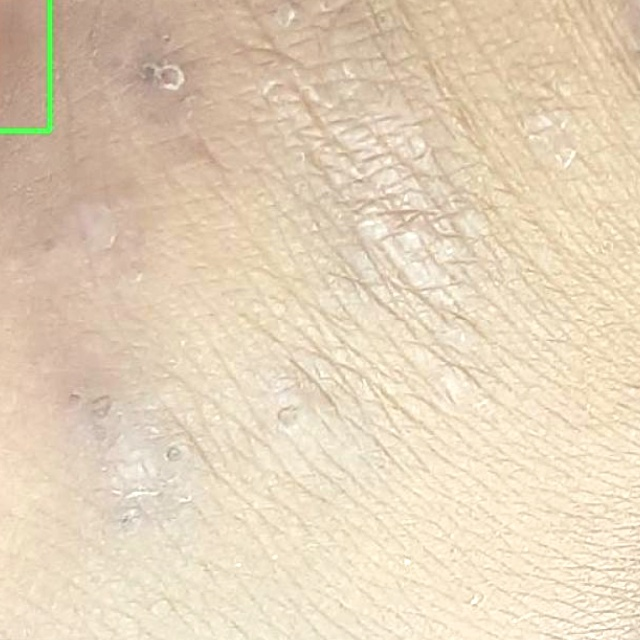Eczema: (0, 0, 49, 131)
